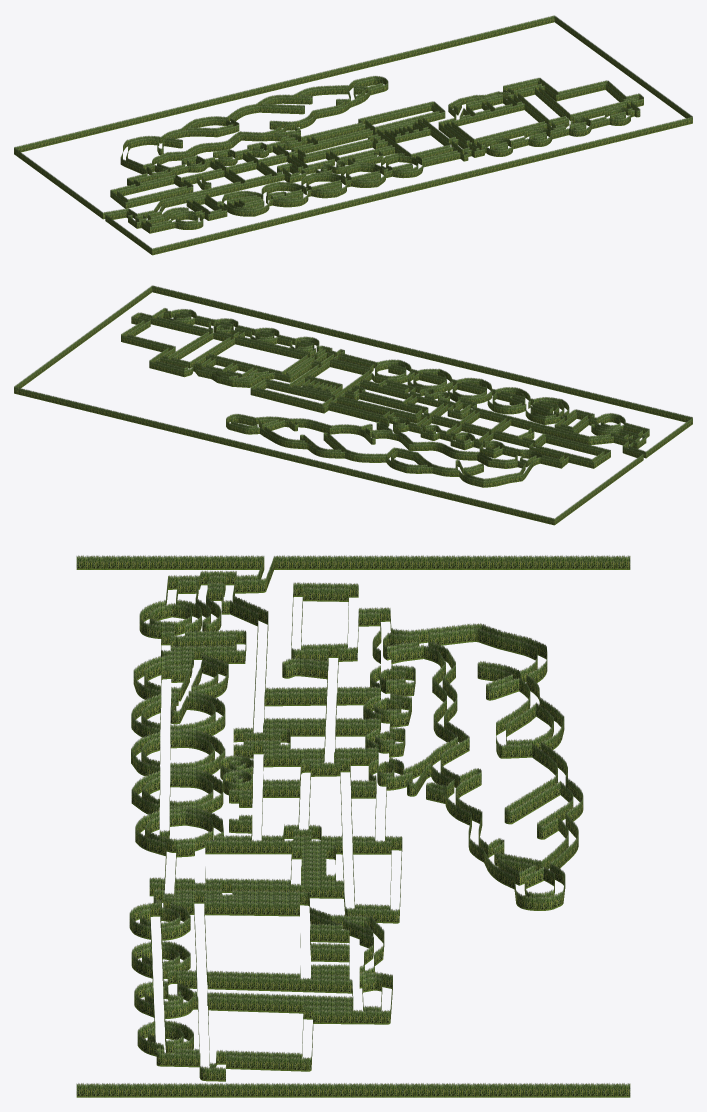
File: labyrinth2.glb
The picture shows the model from 3 angles, top to bottom: view 1: azimuth 30°, elevation 25°; view 2: azimuth 150°, elevation 25°; view 3: azimuth 270°, elevation 25°; orthographic projection. The views are drawn at different scales.
Parts seen in each view (by area): view 1: Plane; view 2: Plane; view 3: Plane.
Part boxes in pixels (x1,y1,x2,y2): Plane: (14, 15, 692, 255); Plane: (14, 285, 692, 525); Plane: (76, 555, 630, 1097).
Size of the model in its own units: 0.4565 by 0.00631 by 0.2023.
Materials: 1 (1 with a texture image).
